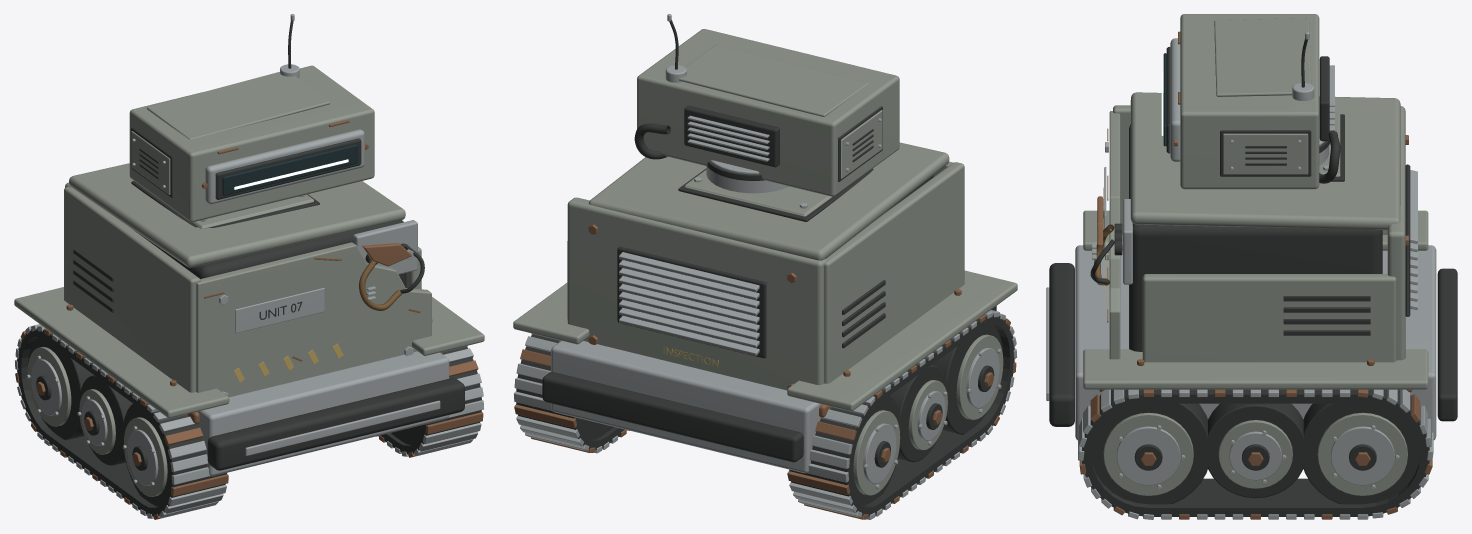
The model's file is RustGuard.fbx.
3 views of the same model, side by side, from view 1: azimuth 30°, elevation 25°; view 2: azimuth 150°, elevation 25°; view 3: azimuth 270°, elevation 25° (orthographic). The views are drawn at different scales.
Parts seen in each view (by area): view 1: RustGuard_Paint, RustGuard_Steel, RustGuard_Rubber, RustGuard_Rust, RustGuard_Glass, RustGuard_Wire; view 2: RustGuard_Paint, RustGuard_Steel, RustGuard_Rubber, RustGuard_Rust; view 3: RustGuard_Paint, RustGuard_Rubber, RustGuard_Steel, RustGuard_Rust.
Part boxes in pixels (left/top/right/bottom): RustGuard_Paint: left=14, top=65, right=484, bottom=496; RustGuard_Steel: left=15, top=14, right=483, bottom=518; RustGuard_Rubber: left=17, top=20, right=481, bottom=516; RustGuard_Rust: left=15, top=119, right=483, bottom=519; RustGuard_Glass: left=222, top=144, right=357, bottom=195; RustGuard_Wire: left=359, top=260, right=401, bottom=310; RustGuard_Paint: left=513, top=29, right=1017, bottom=495; RustGuard_Steel: left=514, top=14, right=1016, bottom=519; RustGuard_Rubber: left=516, top=20, right=1014, bottom=516; RustGuard_Rust: left=514, top=224, right=1016, bottom=519; RustGuard_Paint: left=1083, top=14, right=1428, bottom=495; RustGuard_Rubber: left=1049, top=38, right=1457, bottom=516; RustGuard_Steel: left=1046, top=32, right=1436, bottom=519; RustGuard_Rust: left=1079, top=31, right=1432, bottom=519.
Bounding box in the file's own units: 105 × 122 × 104.
